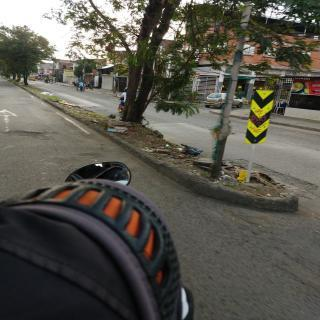Garbage: (182, 144, 205, 157)
